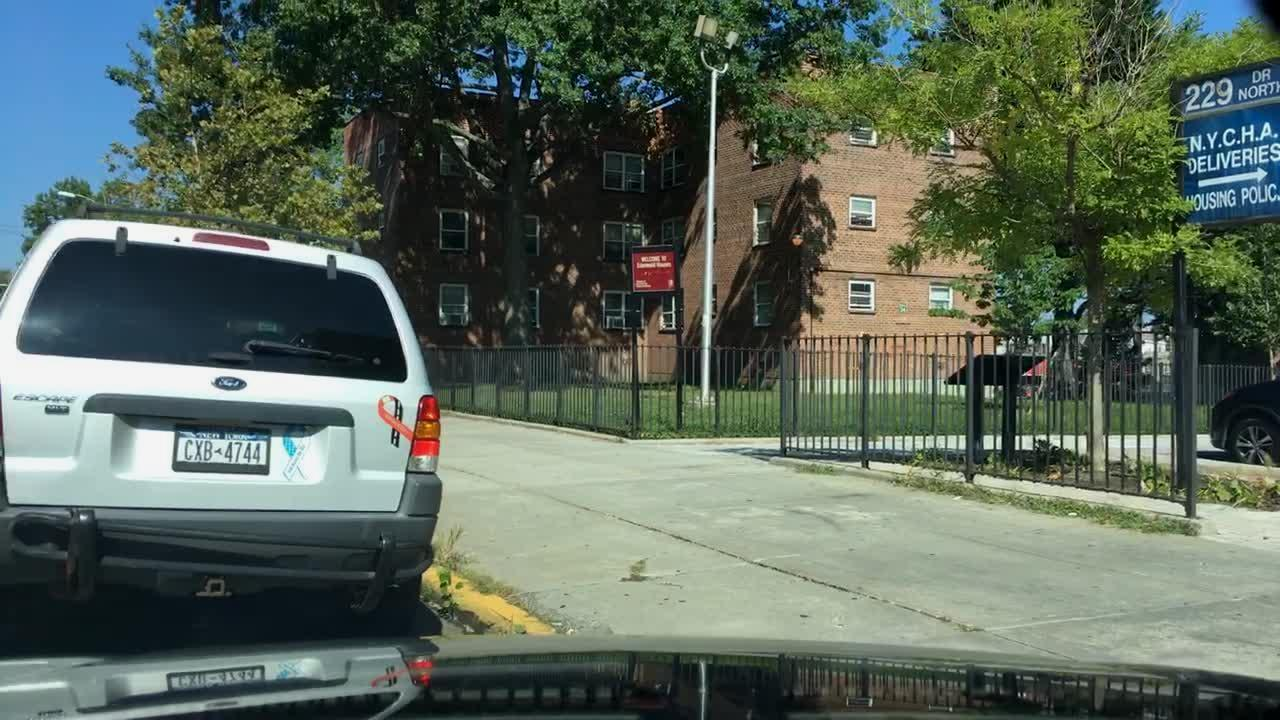ford: (212, 369, 252, 399)
